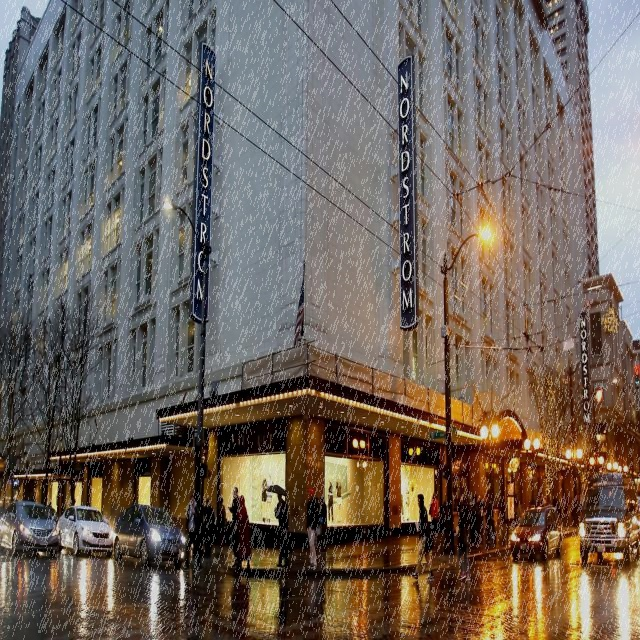pessoa: (511, 490, 582, 528), (458, 492, 501, 548), (409, 492, 435, 582), (182, 491, 204, 575), (272, 487, 292, 570), (304, 486, 320, 570), (456, 508, 472, 582), (236, 494, 251, 572), (227, 486, 240, 568), (326, 474, 344, 528), (202, 497, 216, 560), (260, 468, 274, 524), (398, 474, 410, 524), (216, 494, 227, 548), (318, 496, 328, 555), (313, 494, 323, 547), (429, 491, 439, 538), (45, 499, 55, 519)
